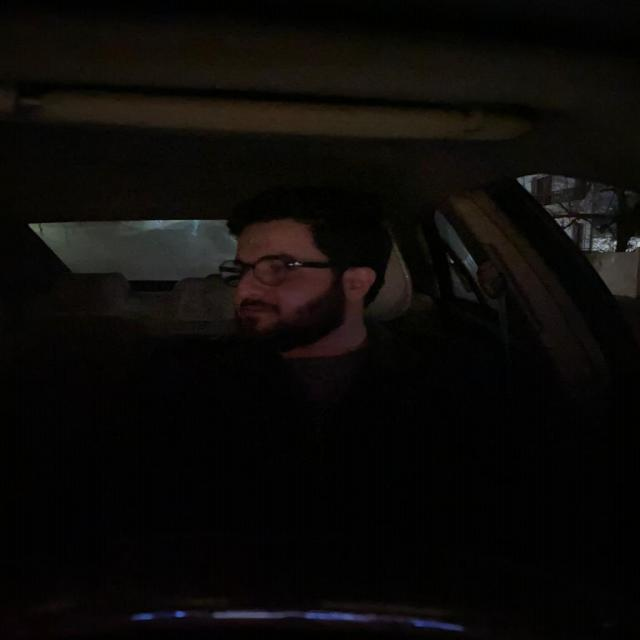LeftRight: (212, 195, 396, 342)
